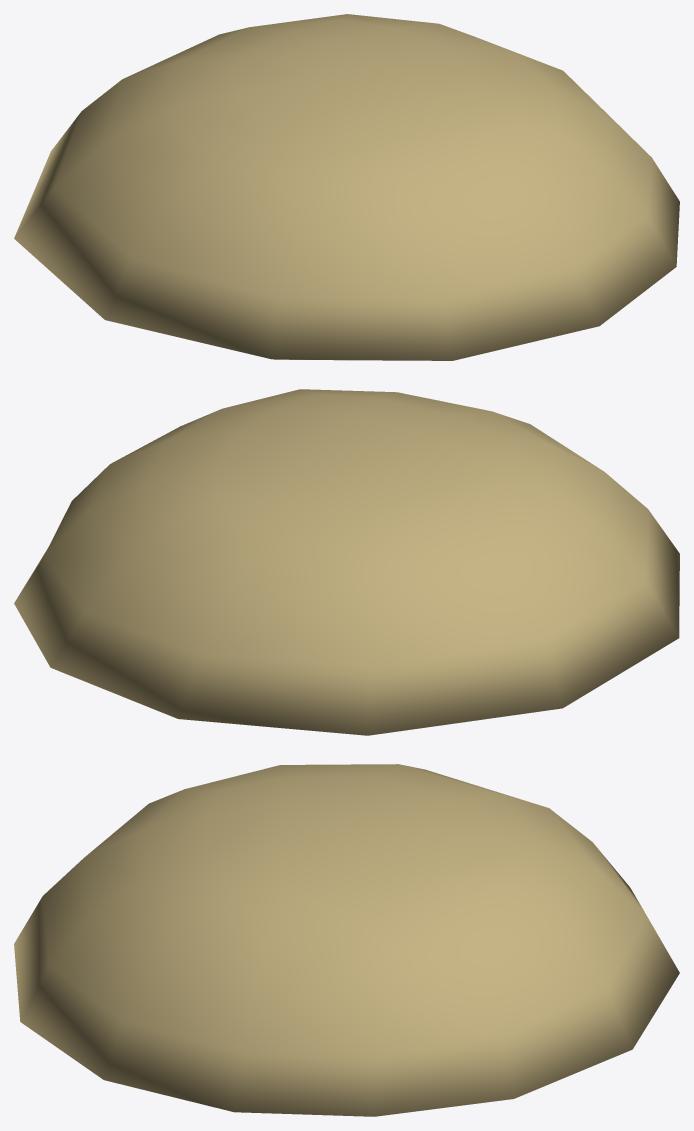
Rendered from Bun_Top.fbx.
3 views of the same model, one above another, from view 1: azimuth 30°, elevation 25°; view 2: azimuth 150°, elevation 25°; view 3: azimuth 270°, elevation 25° (orthographic).
Visible parts, largest first — view 1: SubTool_1_5430089; view 2: SubTool_1_5430089; view 3: SubTool_1_5430089.
Boxes of the visible parts, box(x1,y1,x2,y2) form: SubTool_1_5430089: box(14, 14, 679, 360); SubTool_1_5430089: box(14, 389, 679, 735); SubTool_1_5430089: box(14, 764, 679, 1116).
Bounding box in the file's own units: 16.49 × 5.07 × 16.58.
